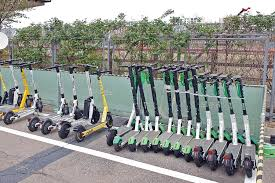kick_handler: (77, 62, 99, 71), (91, 69, 111, 76), (21, 61, 42, 67), (45, 63, 61, 70)
kick_neck: (98, 80, 109, 112), (56, 73, 64, 102)
kick_wheel: (58, 122, 69, 138), (41, 119, 52, 135), (28, 117, 39, 132), (243, 158, 251, 177), (73, 129, 85, 141), (4, 112, 14, 124), (90, 111, 100, 123), (105, 115, 113, 128)
